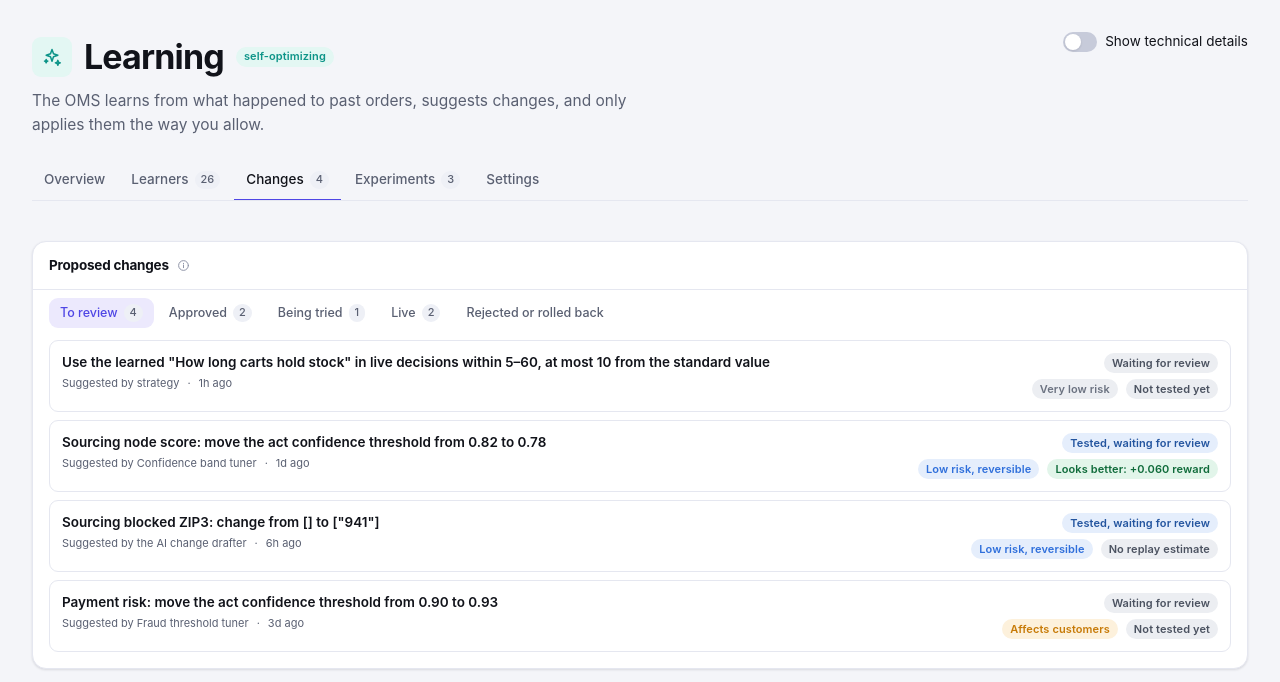
Scenario: Learning Console › opens a change card with replay result, second opinion and cumulative diff, and explains author-cannot-approve
Click the button with test id "change-prop_demo1". click: (304, 442)
box: [49,420,1231,492]
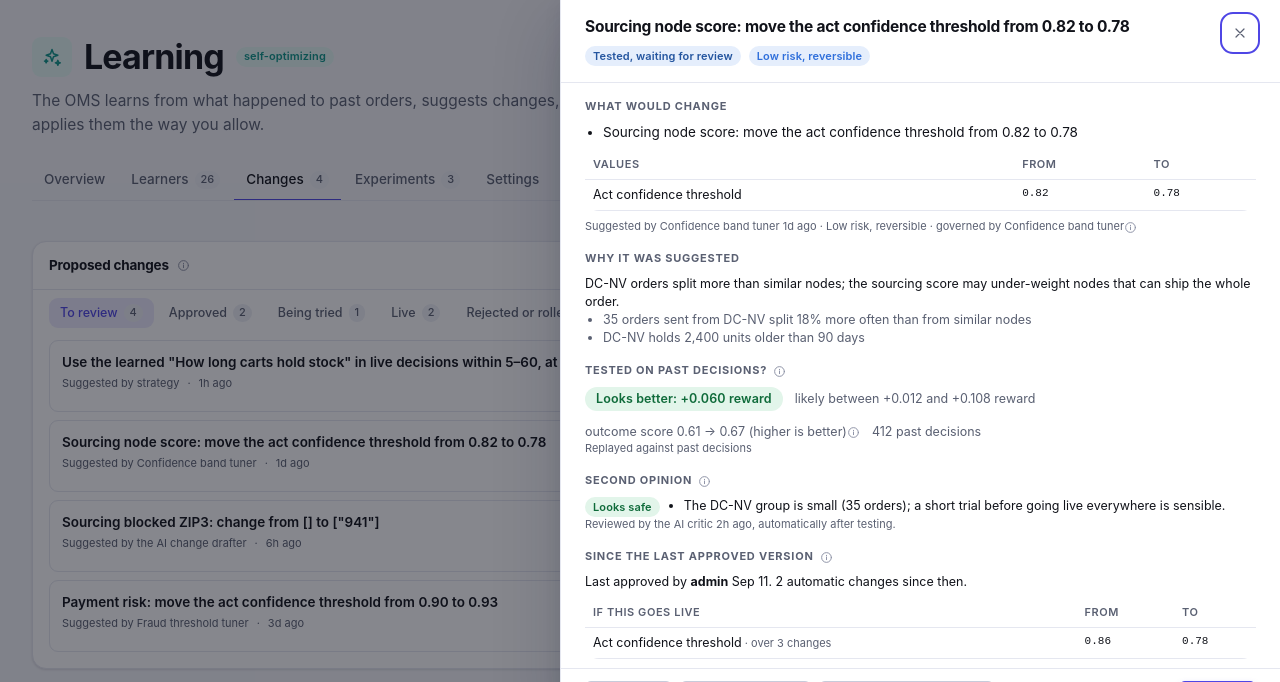
Result: the text "Looks better: +0.060 reward" is shown at [585,387,783,411]
Result: the text "Looks safe" is shown at [585,497,660,517]
Result: the table "If this goes live" is shown at [585,599,1256,659]
Click the button named "Close". click: (1240, 33)
box: [1224,16,1256,50]
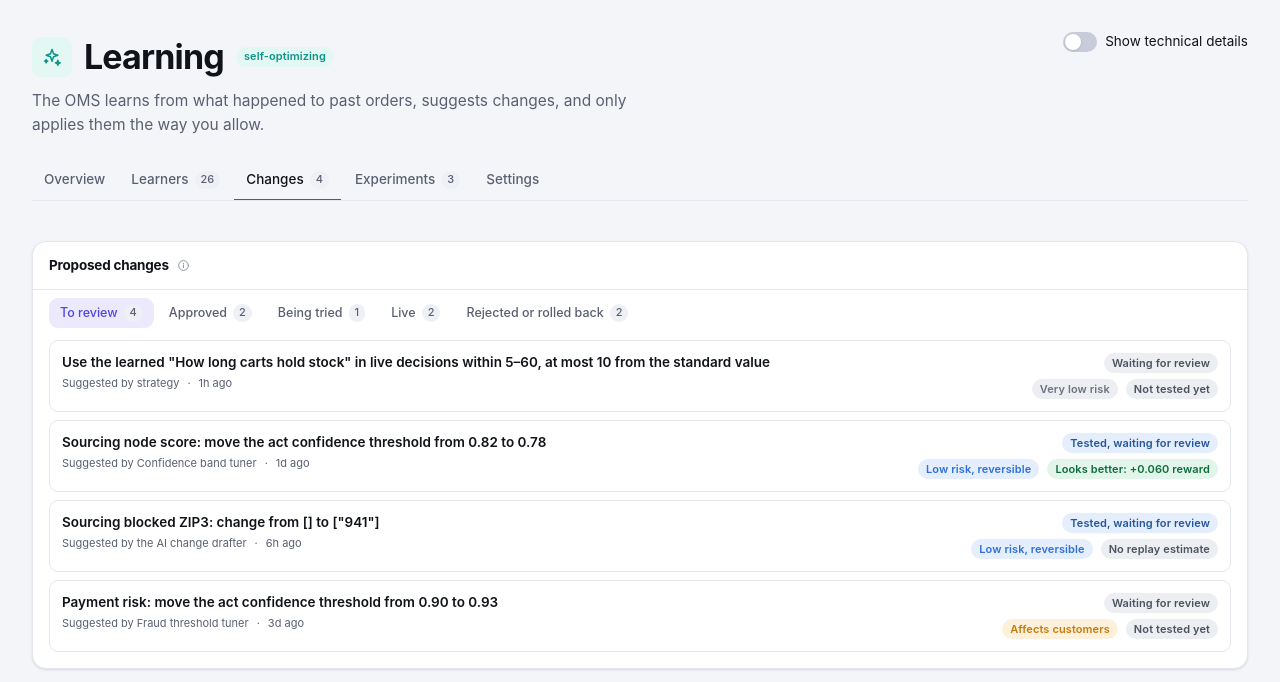
Click the button with test id "change-prop_demo2". click: (416, 362)
box: [49,340,1231,412]
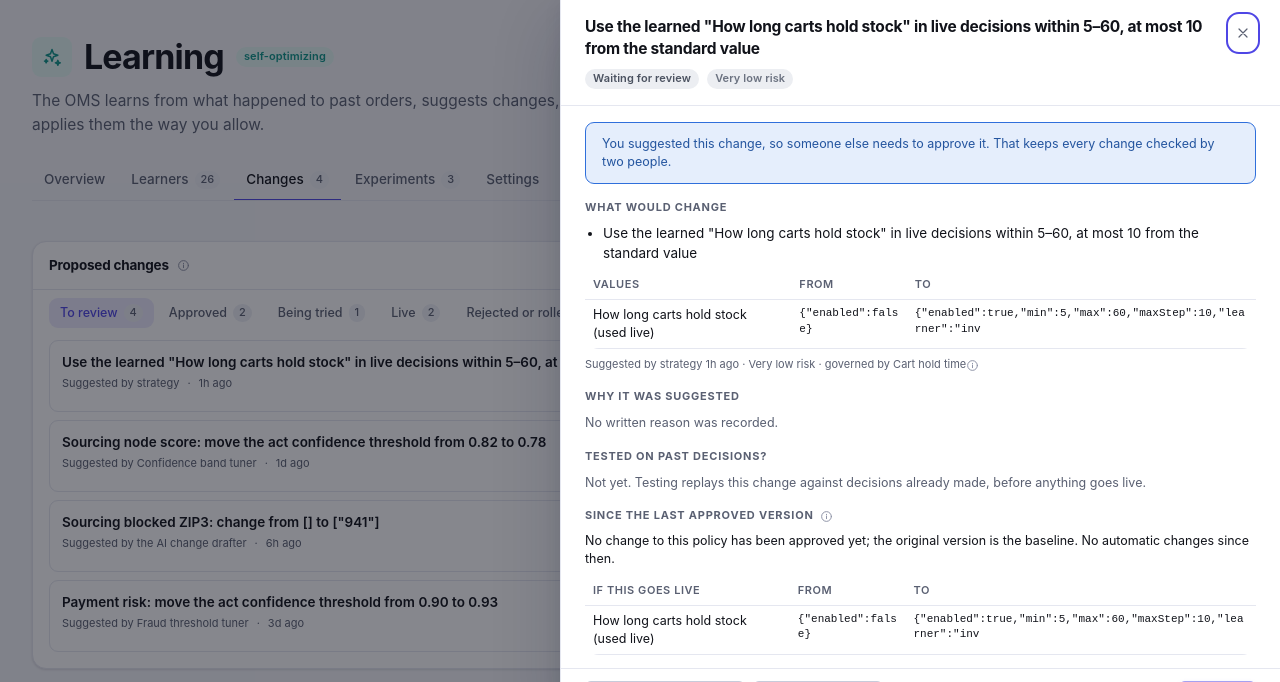
Result: the text "You suggested this change, so someone else needs to approve it" is shown at [602,136,1214,169]
